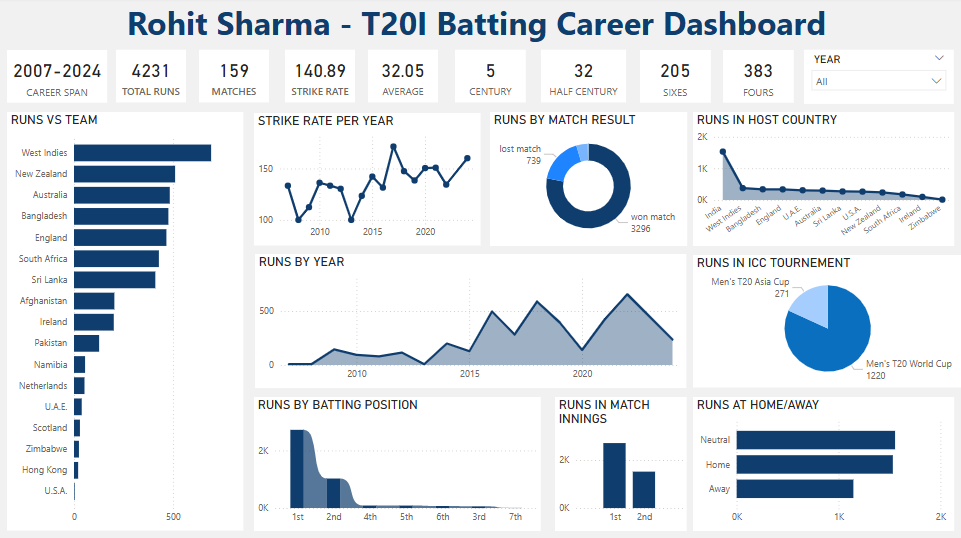

This screenshot's page, from the dashboard's own definition file:
{"tool":"powerbi","page":{"name":"Rohit Sharma T20I","canvas":[1280,720],"ordinal":0},"visuals":[{"type":"card","fields":{"Values":["Career Avgs.Runs"]},"box":[155.7,68.6,92.9,71.4],"z":0},{"type":"card","fields":{"Values":["Career Avgs.Mat"]},"box":[265.7,68.6,92.9,71.4],"z":1000},{"type":"card","fields":{"Values":["Career Avgs.SR"]},"box":[380,68.6,92.9,71.4],"z":2000},{"type":"card","fields":{"Values":["Career Avgs.Avg"]},"box":[490,68.6,92.9,71.4],"z":3000},{"type":"card","fields":{"Values":["Career Avgs.100s"]},"box":[605.7,68.6,94.3,71.4],"z":4000},{"type":"card","fields":{"Values":["Career Avgs.50s"]},"box":[720,68.6,112.9,71.4],"z":5000},{"type":"areaChart","title":"RUNS BY YEAR","fields":{"Category":["Year.Year"],"Y":["Year.Runs"]},"box":[340,341.3,572.6,177.5],"z":6000},{"type":"lineChart","title":"STRIKE RATE PER YEAR","fields":{"Category":["Year.Year"],"Y":["Year.SR"]},"box":[338.6,154.2,301.4,176.2],"z":7000},{"type":"barChart","title":"RUNS VS TEAM","fields":{"Category":["VS Team.vs Team"],"Y":["VS Team.Runs"]},"box":[10,152.9,314.3,555.7],"z":8000},{"type":"ribbonChart","title":"RUNS BY BATTING POSITION","fields":{"Category":["In Batting Position.Category"],"Y":["In Batting Position.Runs"]},"box":[338.6,531.3,381.2,177.5],"z":9000},{"type":"slicer","fields":{"Values":["Year.Year"]},"box":[1070,68.6,198.6,72.9],"z":10000},{"type":"donutChart","title":"RUNS BY MATCH RESULT","fields":{"Category":["Match Result.Category"],"Y":["Match Result.Runs"]},"box":[652.4,152.8,261.5,177.5],"z":14000},{"type":"pieChart","title":"RUNS IN ICC TOURNEMENT","fields":{"Category":["In Major Trophies.Category"],"Y":["In Major Trophies.Runs"]},"box":[922.2,342.7,357.8,176.2],"z":16000},{"type":"textbox","box":[0,0,1268.6,70.4],"z":17000},{"type":"clusteredBarChart","title":"RUNS AT HOME/AWAY","fields":{"Category":["Home VS Away.Category"],"Y":["Home VS Away.Runs"]},"box":[922.2,531.3,346.8,177.5],"z":18000},{"type":"card","fields":{"Values":["Career Avgs.6s"]},"box":[851.7,70.2,93.7,70.2],"z":19000},{"type":"card","fields":{"Values":["Career Avgs.4s"]},"box":[961.5,70.2,93.7,70.2],"z":20000},{"type":"stackedAreaChart","title":"RUNS IN HOST COUNTRY","fields":{"Category":["Host Country.Host Country"],"Y":["Host Country.Runs"]},"box":[922.2,152.8,346.8,177.5],"z":21000},{"type":"card","fields":{"Values":["Career Avgs.Span"]},"box":[10.2,70.2,133.2,70.2],"z":22000},{"type":"clusteredColumnChart","title":"RUNS IN MATCH INNINGS","fields":{"Category":["In Match Innings.Category"],"Y":["In Match Innings.Runs"]},"box":[739.1,531.3,174.8,177.5],"z":23000}]}

Visuals, with their boxes in screenshot pixels (x1, y1, x2, y2), scaled from the page's 1280x720 canvas onto the 961x538 screenshot:
card - Career Avgs.Runs: 117 51 187 105
card - Career Avgs.Mat: 199 51 269 105
card - Career Avgs.SR: 285 51 355 105
card - Career Avgs.Avg: 368 51 438 105
card - Career Avgs.100s: 455 51 526 105
card - Career Avgs.50s: 541 51 625 105
"RUNS BY YEAR" areaChart: 255 255 685 388
"STRIKE RATE PER YEAR" lineChart: 254 115 480 247
"RUNS VS TEAM" barChart: 8 114 243 529
"RUNS BY BATTING POSITION" ribbonChart: 254 397 540 530
slicer - Year.Year: 803 51 952 106
"RUNS BY MATCH RESULT" donutChart: 490 114 686 247
"RUNS IN ICC TOURNEMENT" pieChart: 692 256 960 388
textbox: 0 0 952 53
"RUNS AT HOME/AWAY" clusteredBarChart: 692 397 953 530
card - Career Avgs.6s: 639 52 710 105
card - Career Avgs.4s: 722 52 792 105
"RUNS IN HOST COUNTRY" stackedAreaChart: 692 114 953 247
card - Career Avgs.Span: 8 52 108 105
"RUNS IN MATCH INNINGS" clusteredColumnChart: 555 397 686 530
